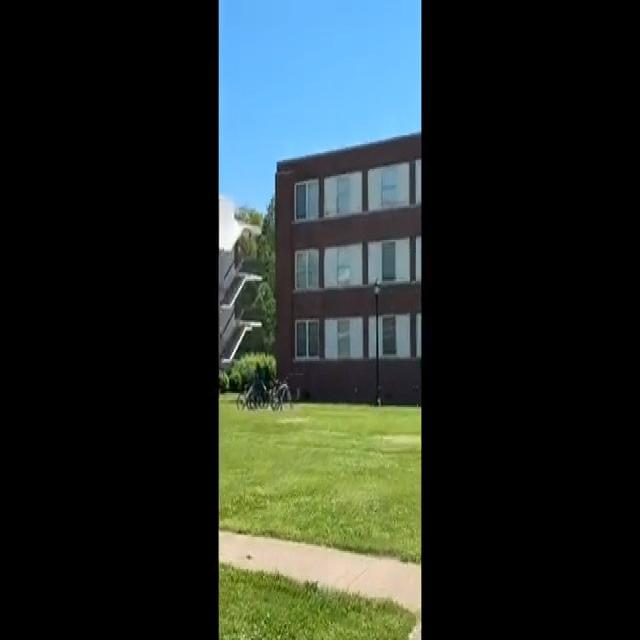drone: (351, 382, 360, 397)
